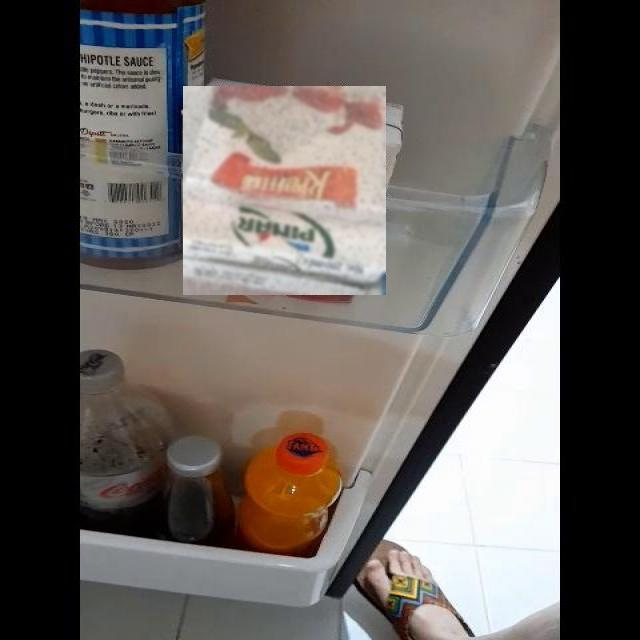cheese: (0, 148, 376, 442)
